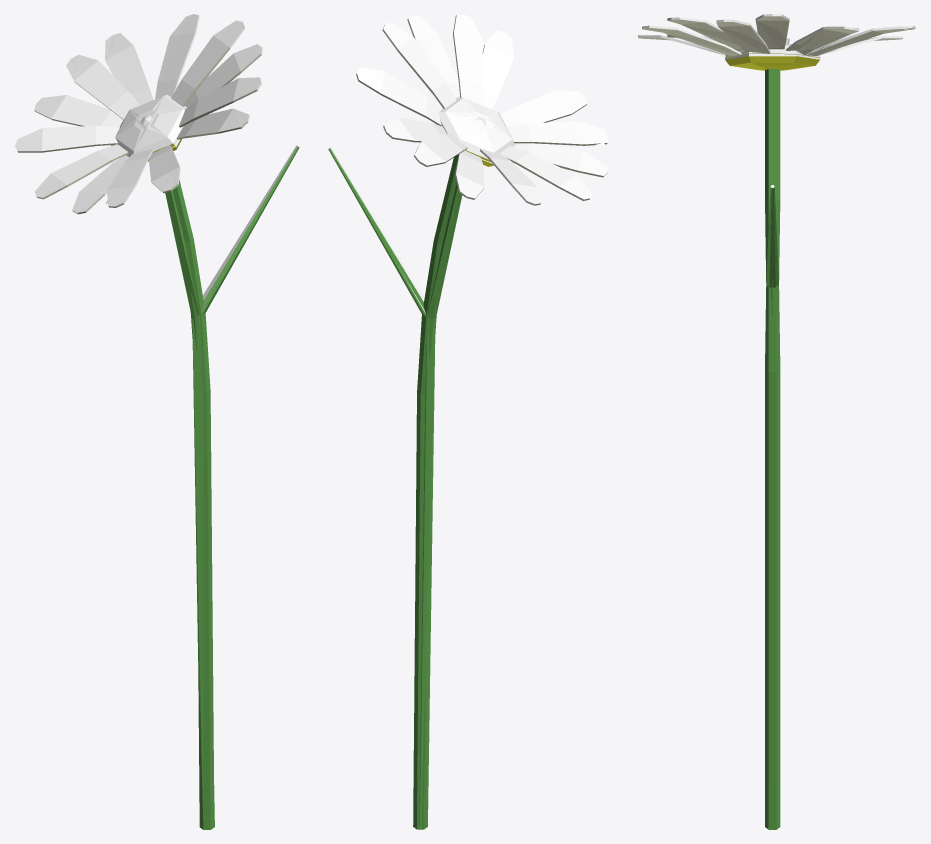
Rendered from Daisy_2_Snowy.fbx.
3 views of the same model, side by side, from view 1: azimuth 30°, elevation 25°; view 2: azimuth 150°, elevation 25°; view 3: azimuth 270°, elevation 25° (orthographic). The views are drawn at different scales.
Visible parts, largest first — view 1: Daisy 2_LOD0_Snowy, Daisy 2_LOD1_Snowy, Daisy 2_LOD3_Snowy, Daisy 2_LOD2_Snowy; view 2: Daisy 2_LOD0_Snowy, Daisy 2_LOD1_Snowy, Daisy 2_LOD3_Snowy, Daisy 2_LOD2_Snowy; view 3: Daisy 2_LOD0_Snowy, Daisy 2_LOD1_Snowy, Daisy 2_LOD3_Snowy, Daisy 2_LOD2_Snowy.
Boxes of the visible parts, x1,y1,x2,y2 form: Daisy 2_LOD0_Snowy: [15, 14, 299, 829]; Daisy 2_LOD1_Snowy: [15, 14, 298, 829]; Daisy 2_LOD3_Snowy: [14, 22, 262, 827]; Daisy 2_LOD2_Snowy: [86, 88, 181, 194]; Daisy 2_LOD0_Snowy: [328, 14, 608, 829]; Daisy 2_LOD1_Snowy: [329, 14, 608, 829]; Daisy 2_LOD3_Snowy: [356, 15, 607, 829]; Daisy 2_LOD2_Snowy: [399, 62, 520, 152]; Daisy 2_LOD0_Snowy: [638, 14, 915, 829]; Daisy 2_LOD1_Snowy: [638, 14, 914, 829]; Daisy 2_LOD3_Snowy: [663, 20, 878, 829]; Daisy 2_LOD2_Snowy: [671, 21, 882, 52].
Bounding box in the file's own units: 14.77 × 42.69 × 13.03.
